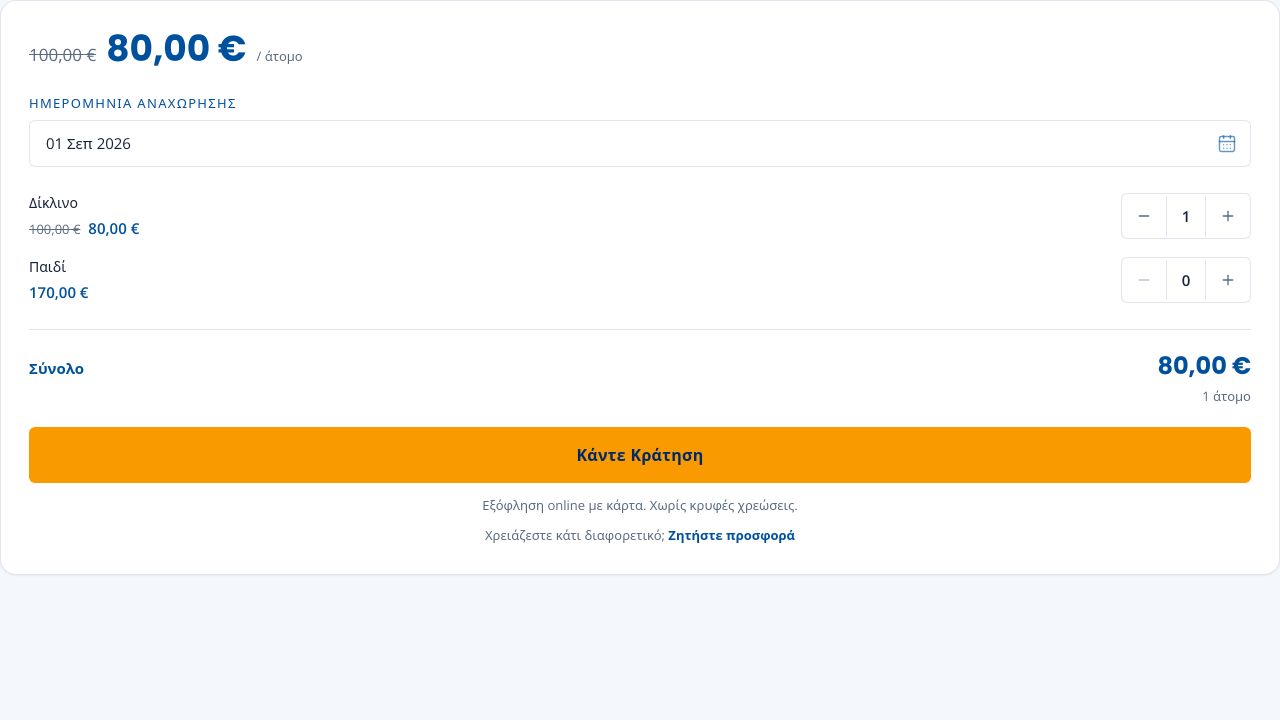
Test: TourBookingWidget › υποβολή χωρίς άτομα δείχνει το αντίστοιχο σφάλμα
Step 1. Click the button named "Μείωση, Δίκλινο" → coordinates (1144, 216), box [1122, 194, 1166, 238]
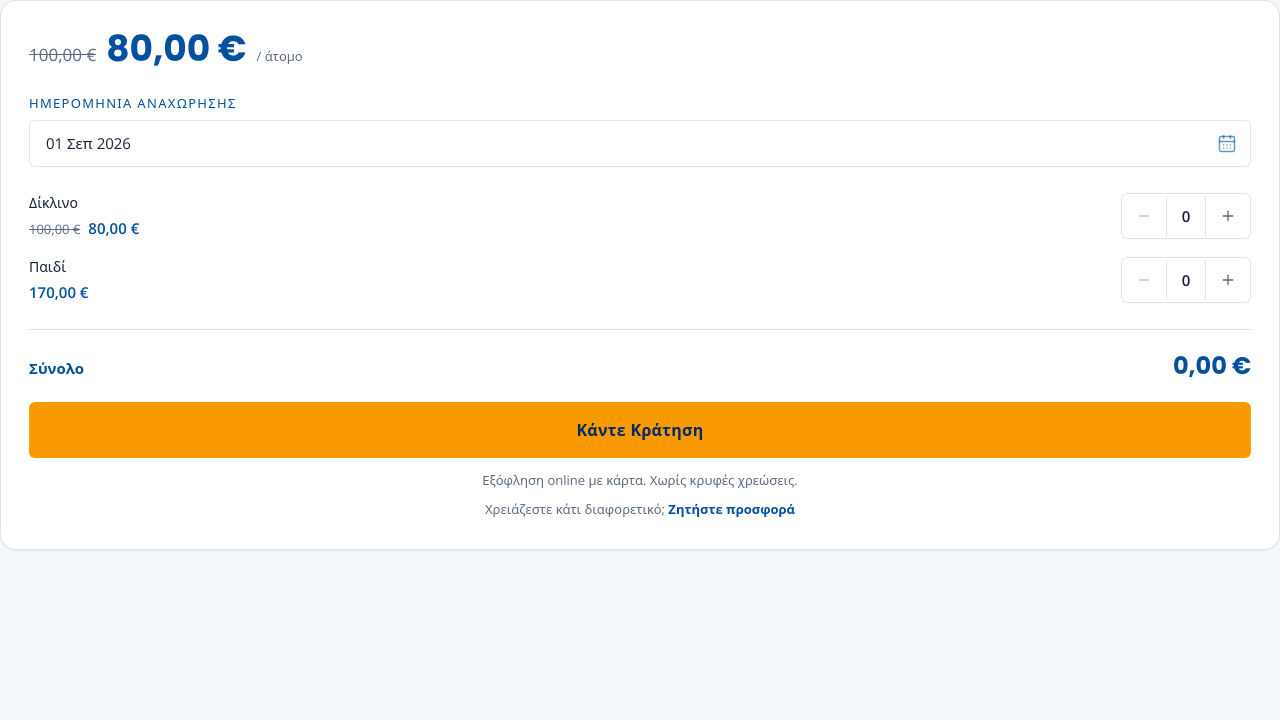
Step 2. Click the button "Κάντε Κράτηση" → coordinates (640, 430), box [29, 402, 1251, 458]
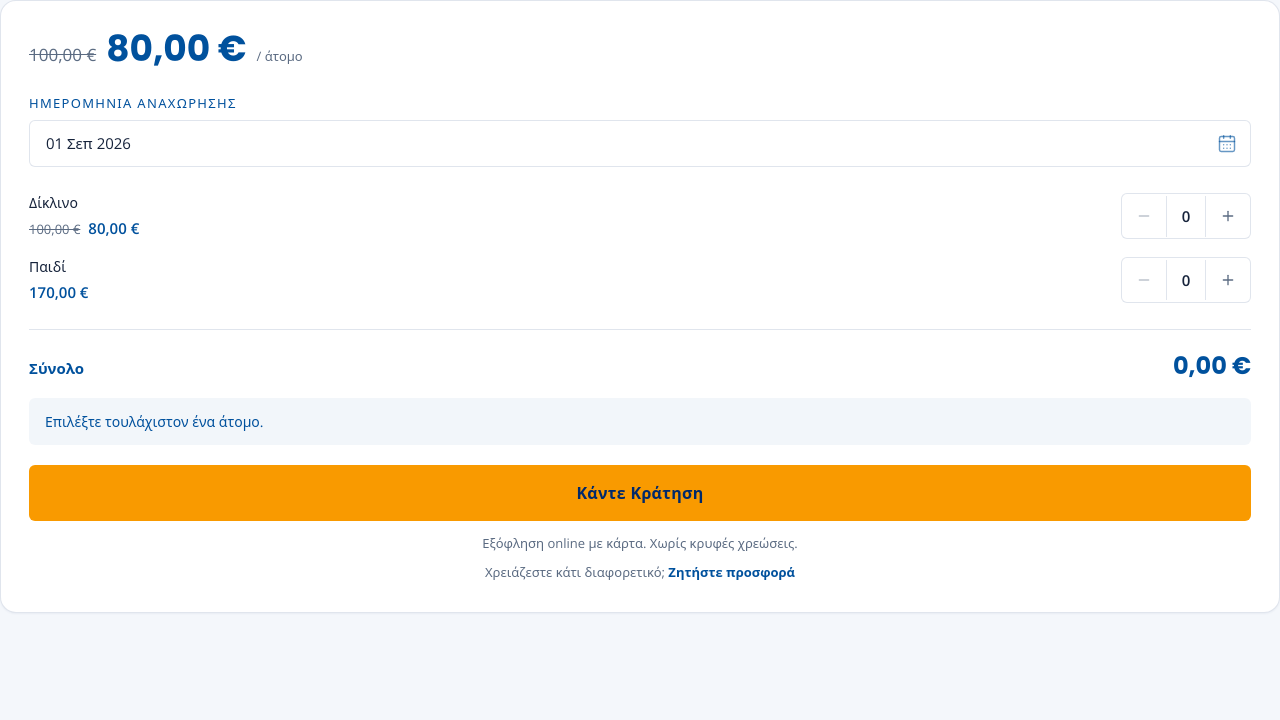
Now the text "Επιλέξτε τουλάχιστον ένα άτομο." is shown, box [29, 398, 1251, 445]
